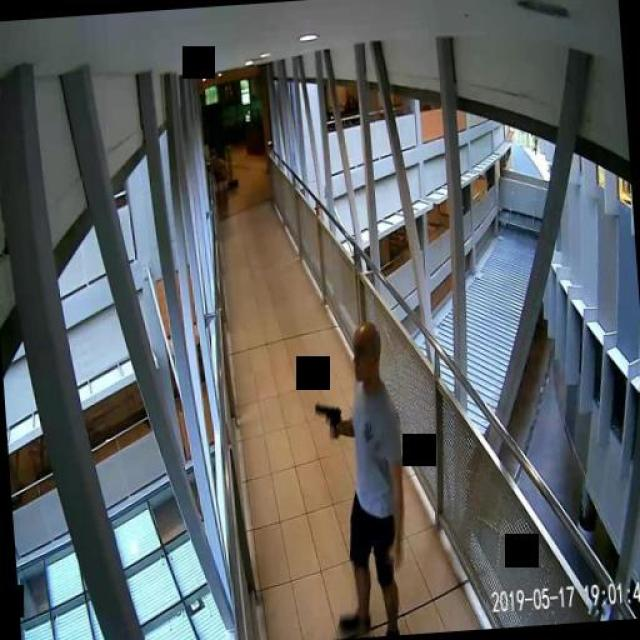gun: (315, 398, 344, 438)
